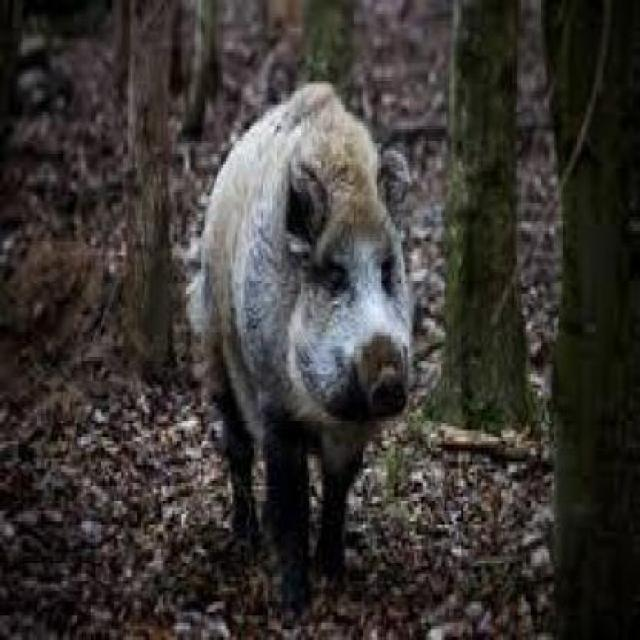wildboar: (192, 75, 417, 593)
